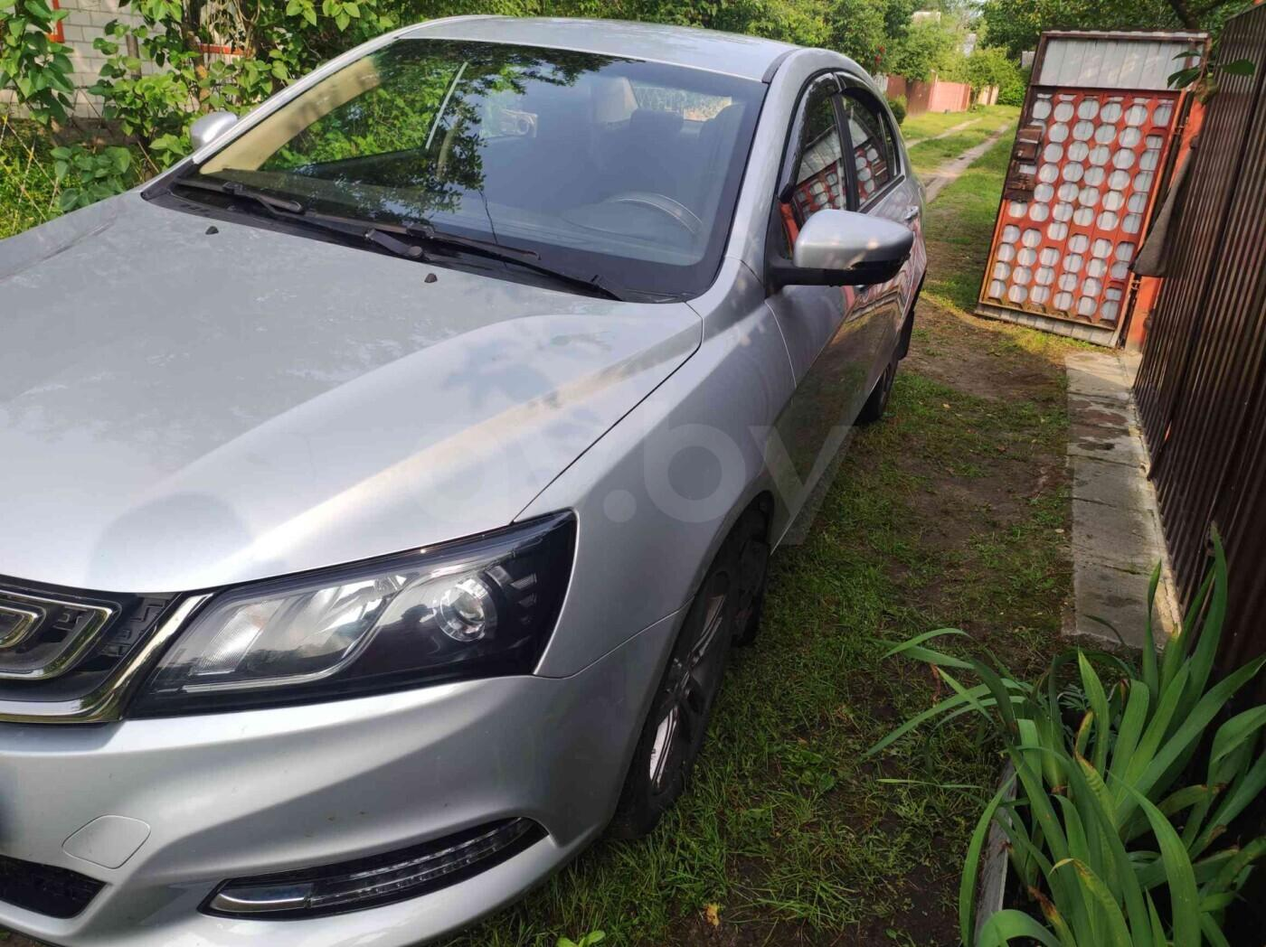Emgrand_2019-2021: (0, 15, 926, 946)
